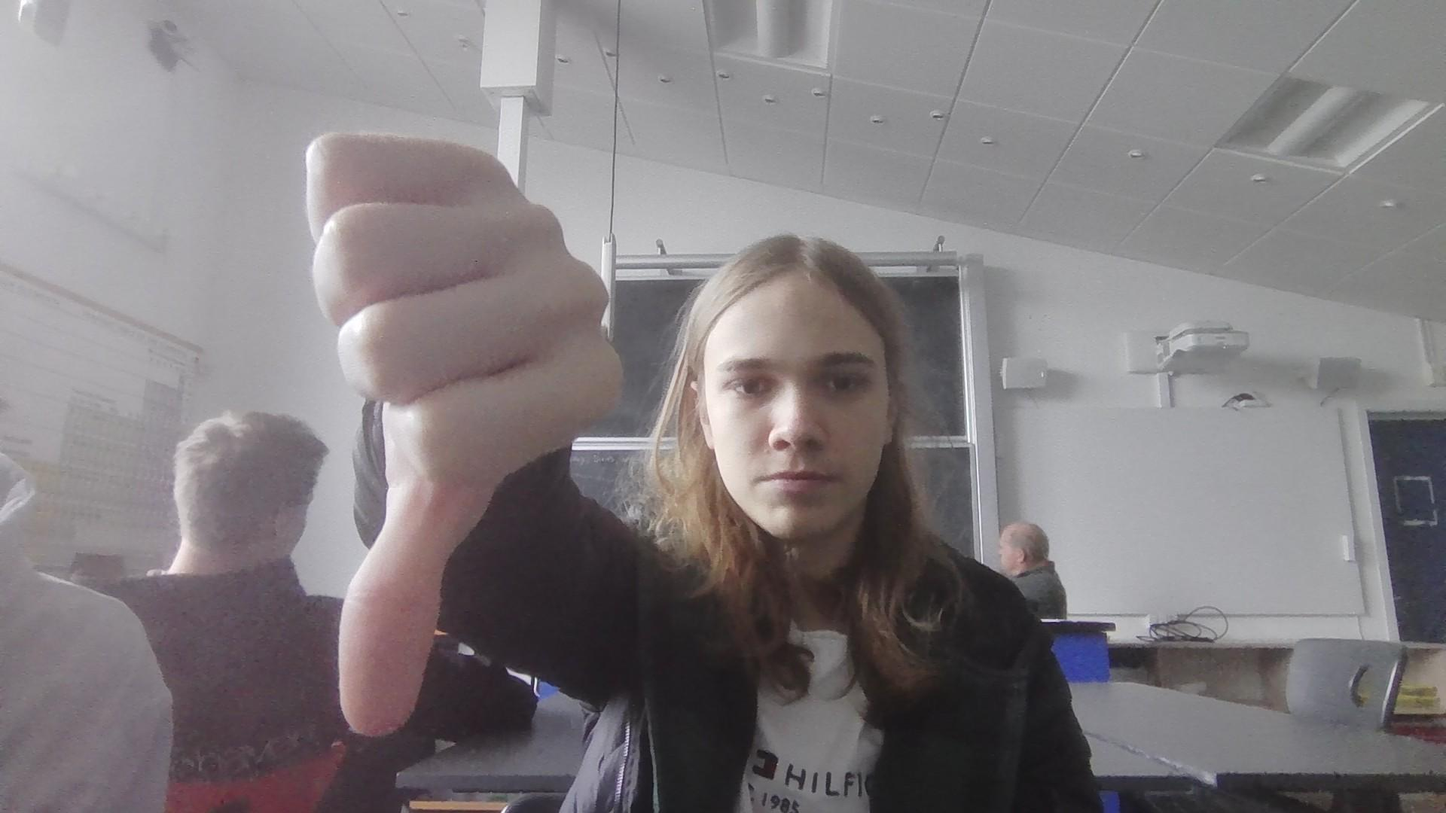thumbs down: (262, 127, 631, 741)
